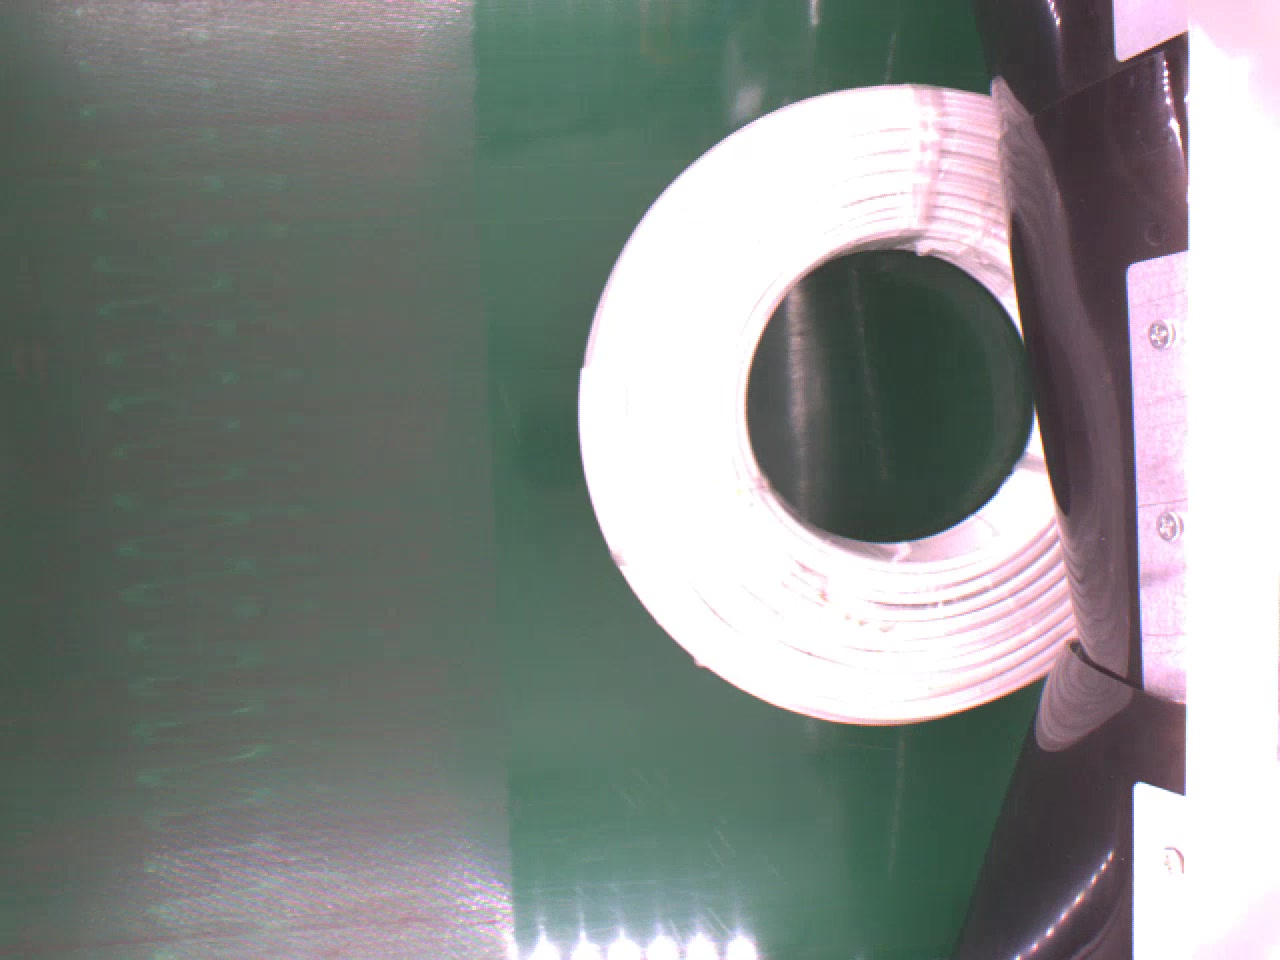white: (578, 79, 1077, 723)
